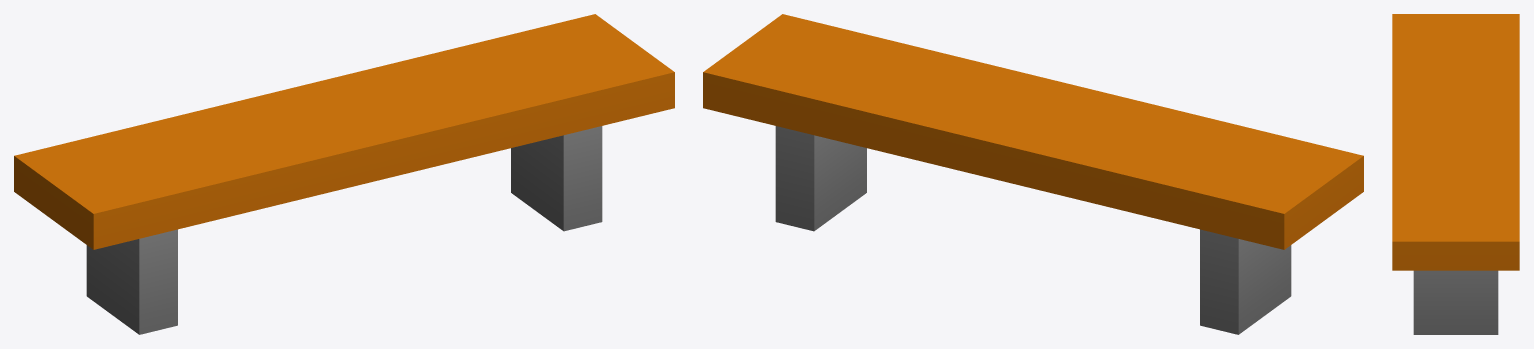
File: bench.glb
The picture shows the model from 3 angles, left to right: view 1: azimuth 30°, elevation 25°; view 2: azimuth 150°, elevation 25°; view 3: azimuth 270°, elevation 25°; orthographic projection. The views are drawn at different scales.
Visible parts, largest first — view 1: bench; view 2: bench; view 3: bench.
Part boxes in pixels (x1,y1,x2,y2): bench: (14, 14, 674, 334); bench: (703, 14, 1363, 334); bench: (1392, 14, 1519, 334).
Size of the model in its own units: 2 by 0.4772 by 0.4737.
1 material, 1 textured.
